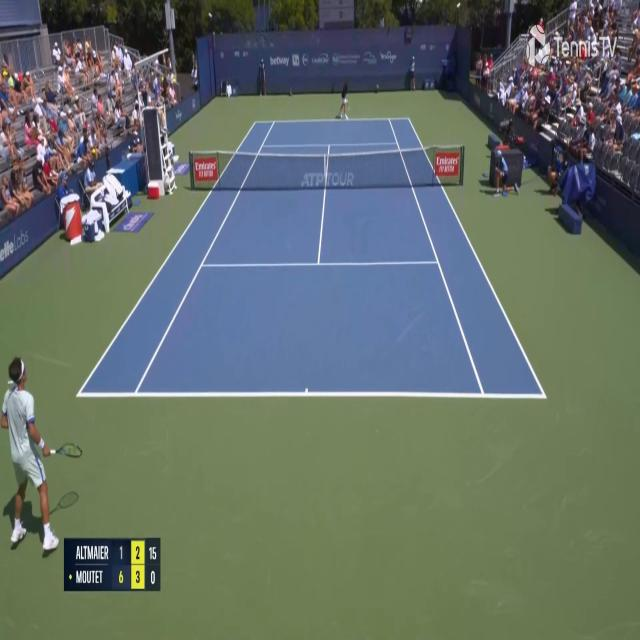tennis-player: (1, 354, 83, 556), (337, 74, 350, 122)
